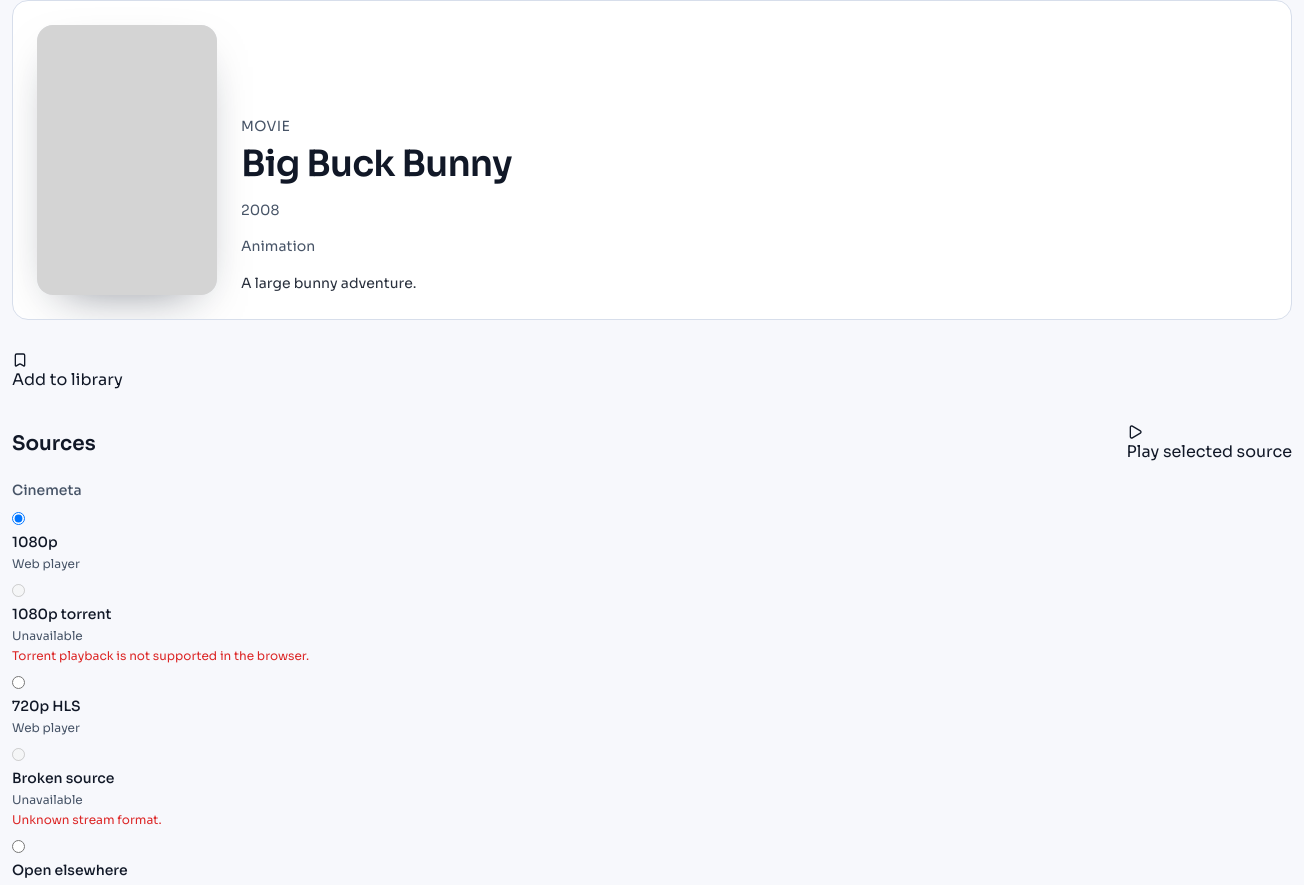
Scenario: DetailView library › adds a title to the library
The image size is (1304, 885).
Expected: the heading "Big Buck Bunny" is shown, [241,141,512,186]
Click the button "Add to library". click: (67, 372)
box: [12,352,123,392]
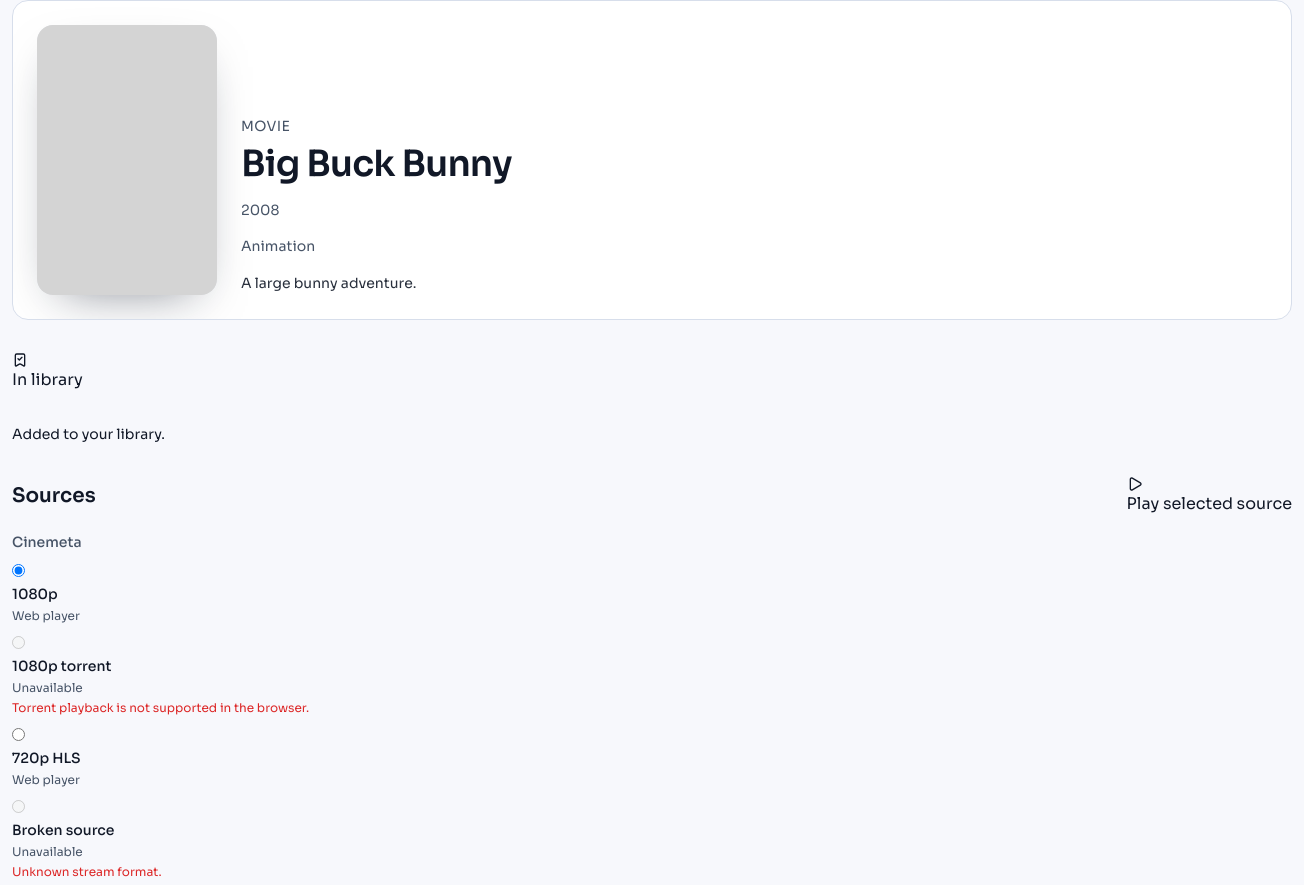
Result: the message shows "Added to your library" at [12,425,165,443]
Result: the button "In library" is shown at [12,352,83,392]
